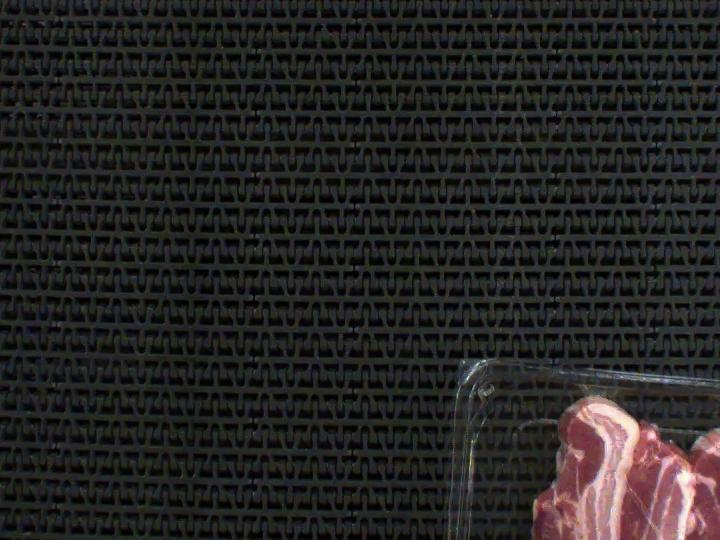packaging-error: (569, 378, 629, 403)
